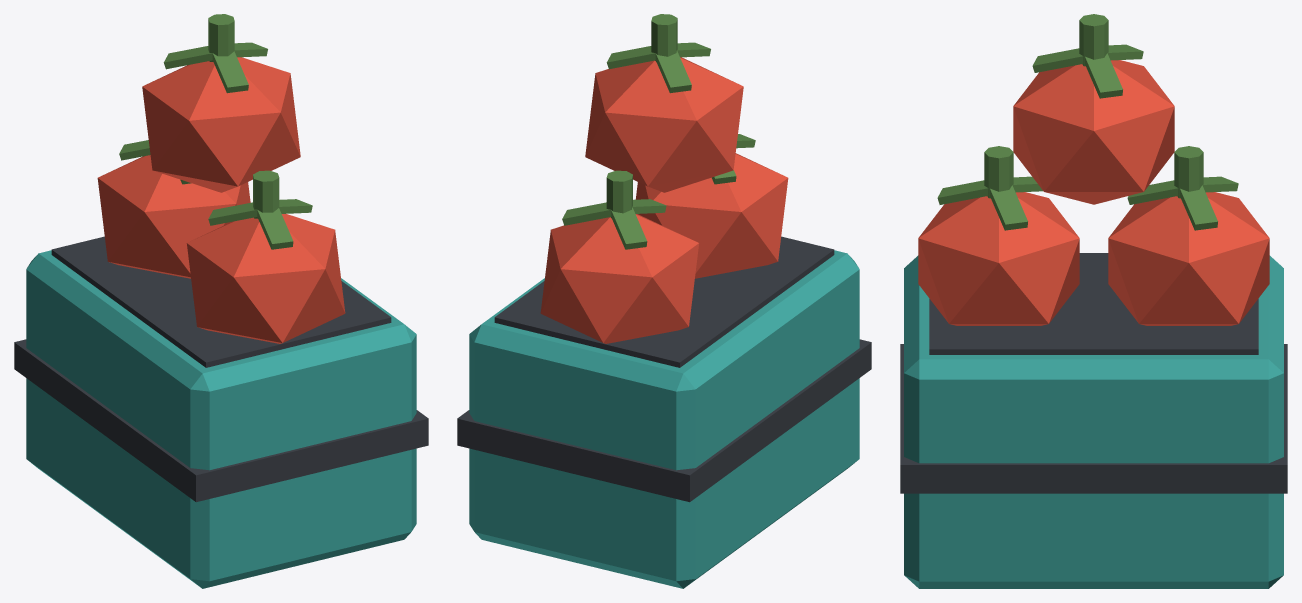
The model's file is pomodoro_m0_1.glb.
3 views of the same model, side by side, from view 1: azimuth 30°, elevation 25°; view 2: azimuth 150°, elevation 25°; view 3: azimuth 270°, elevation 25° (orthographic). The views are drawn at different scales.
Parts seen in each view (by area): view 1: pomodoro_m0_1_mesh; view 2: pomodoro_m0_1_mesh; view 3: pomodoro_m0_1_mesh.
Boxes of the visible parts, left/top/right/bottom form: pomodoro_m0_1_mesh: left=14, top=14, right=428, bottom=588; pomodoro_m0_1_mesh: left=457, top=14, right=871, bottom=588; pomodoro_m0_1_mesh: left=900, top=14, right=1287, bottom=588.
Bounding box in the file's own units: 0.226 × 0.4498 × 0.306.
